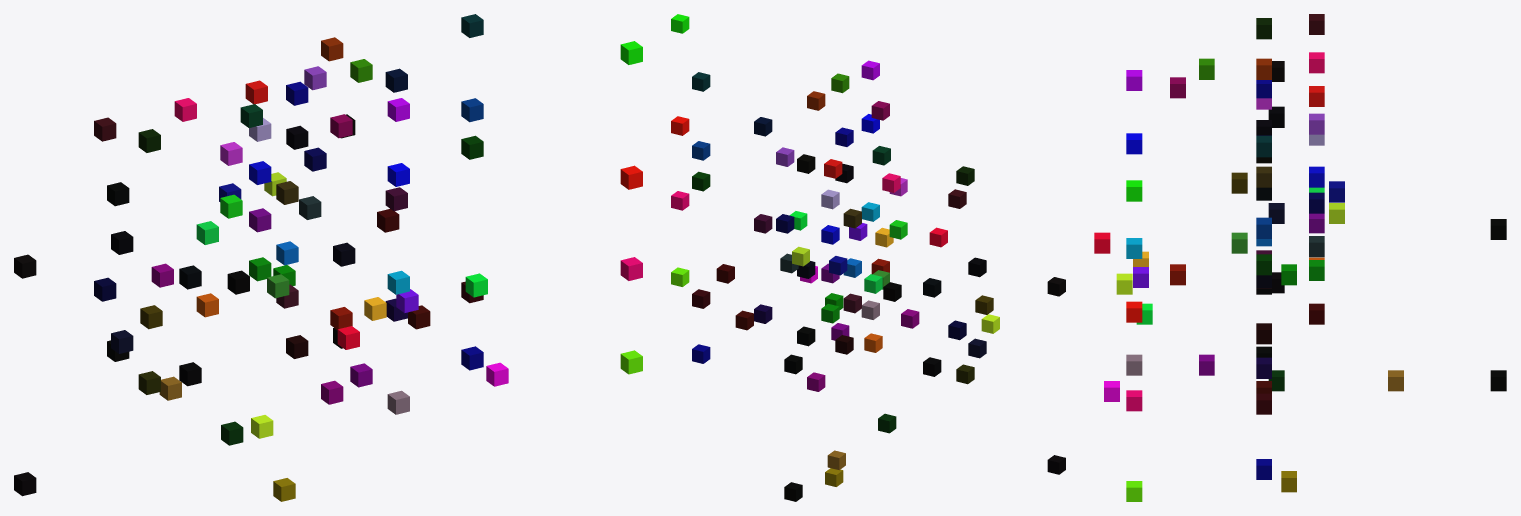
The model's file is testcubemodel4.obj.
3 views of the same model, side by side, from view 1: azimuth 30°, elevation 25°; view 2: azimuth 150°, elevation 25°; view 3: azimuth 270°, elevation 25° (orthographic). The views are drawn at different scales.
Size of the model in its own units: 77.37 by 61.64 by 51.98.
Materials: 76 (1 with a texture image).
